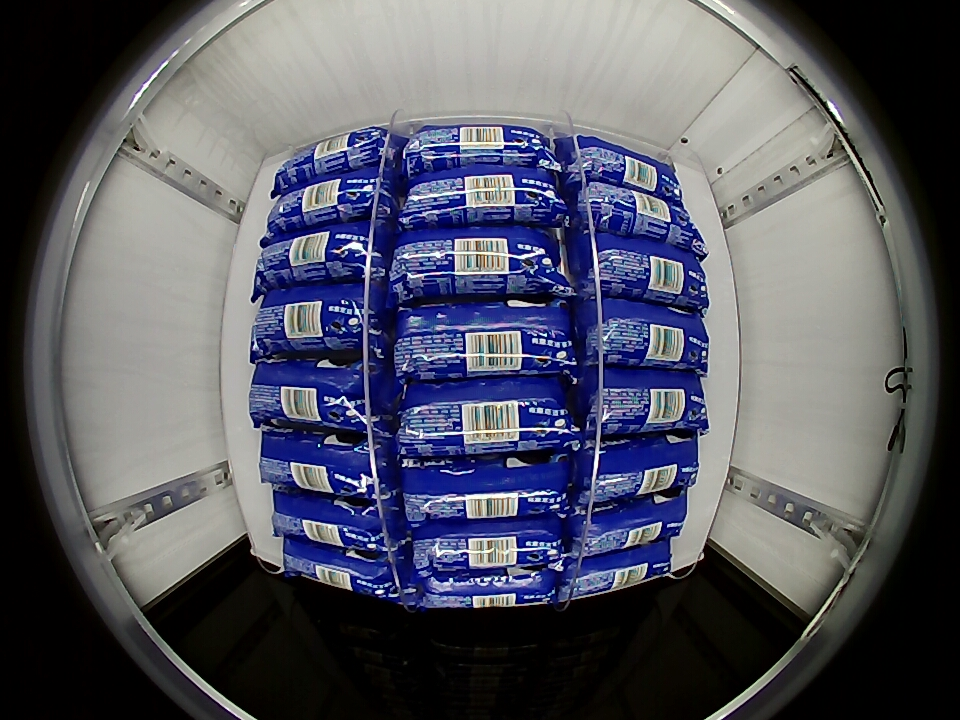aoliao: (393, 299, 576, 382), (397, 377, 575, 458), (390, 225, 566, 302), (399, 454, 571, 523), (399, 167, 568, 232), (578, 232, 709, 308), (584, 298, 711, 372), (251, 283, 375, 358), (401, 122, 560, 178), (246, 359, 371, 430), (281, 535, 404, 605), (254, 223, 380, 291), (257, 430, 382, 497), (412, 518, 564, 573), (270, 489, 393, 554), (582, 434, 701, 501), (267, 169, 387, 235), (591, 368, 709, 434), (577, 183, 696, 247), (573, 493, 687, 556), (413, 562, 561, 610), (569, 135, 678, 199), (280, 126, 394, 187), (561, 541, 674, 602)
